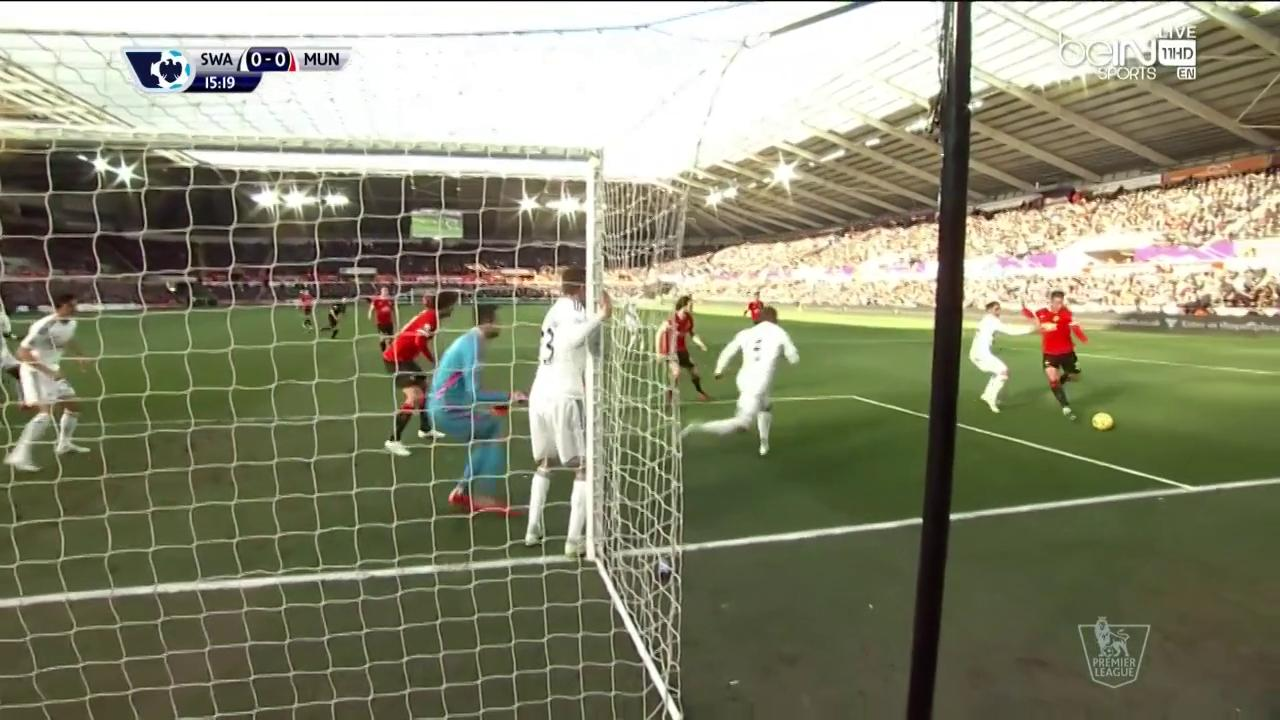football: (1092, 412, 1114, 431)
